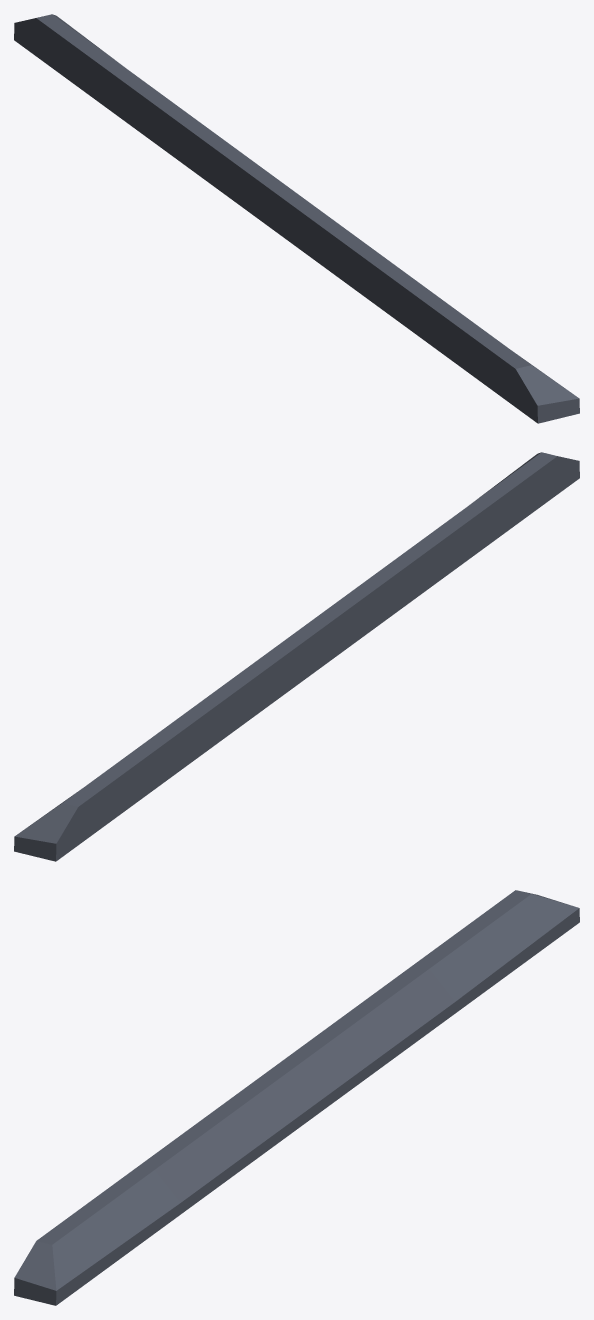
The model's file is groundWireEnd.fbx.
3 renders of one model, top to bottom at view 1: azimuth 30°, elevation 25°; view 2: azimuth 150°, elevation 25°; view 3: azimuth 330°, elevation 25°, orthographic.
Visible parts, largest first — view 1: groundWireEnd; view 2: groundWireEnd; view 3: groundWireEnd.
Part boxes in pixels (box(x1,y1,x2,y2)): groundWireEnd: box(14, 14, 579, 423); groundWireEnd: box(14, 452, 579, 861); groundWireEnd: box(14, 890, 579, 1305).
Bounding box in the file's own units: 7.81 × 6.83 × 169.
